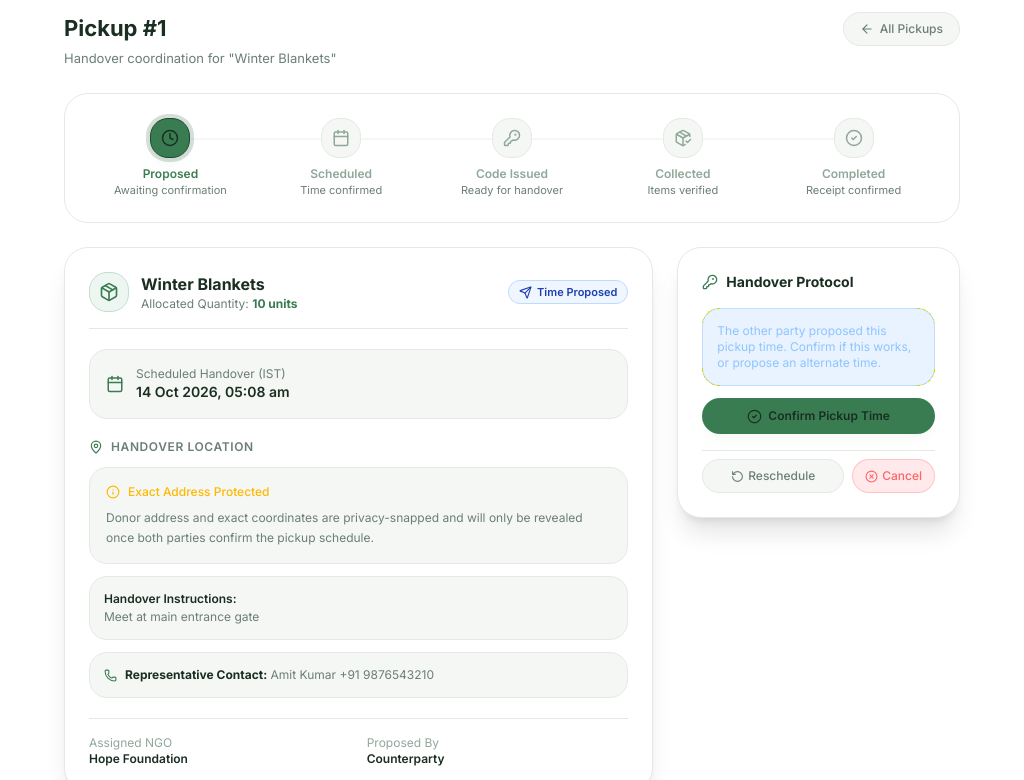
Phase 15: Pickups, OTP Verification & Notification Centre › T-15.1-01: counterparty can confirm proposed schedule and reveal address
The width and height of the screenshot is (1024, 780).
expect the text "Exact Address Protected" is shown: met, box left=128, top=484, right=270, bottom=500
expect the text "Confirm Pickup Time" is shown: met, box left=768, top=408, right=890, bottom=424
Note: Donor clicks confirm
Click the button "Confirm Pickup Time" at (819,416), box left=702, top=398, right=935, bottom=434
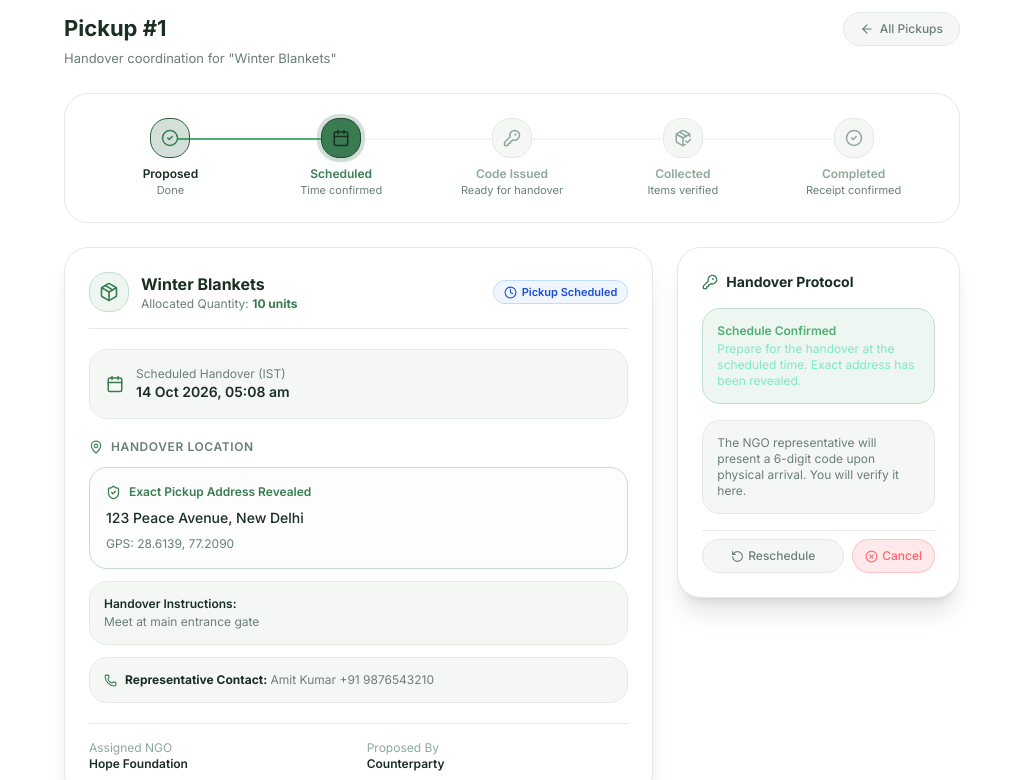
expect the text "Exact Pickup Address Revealed" is shown: met, box left=129, top=484, right=311, bottom=500
expect the text "123 Peace Avenue, New Delhi" is shown: met, box left=106, top=509, right=304, bottom=526
